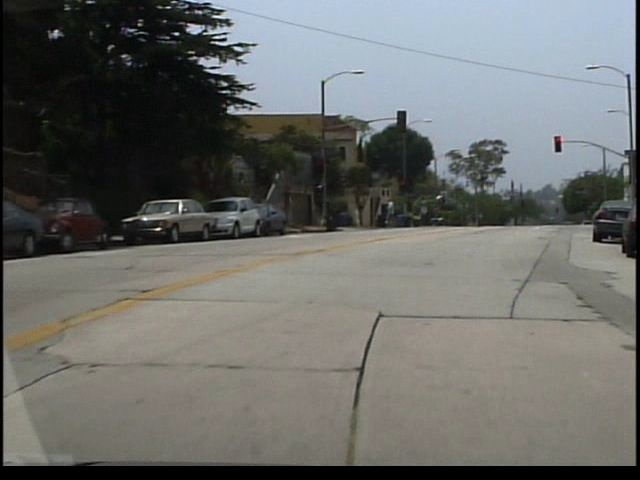person: (387, 199, 399, 231), (357, 205, 365, 230)
